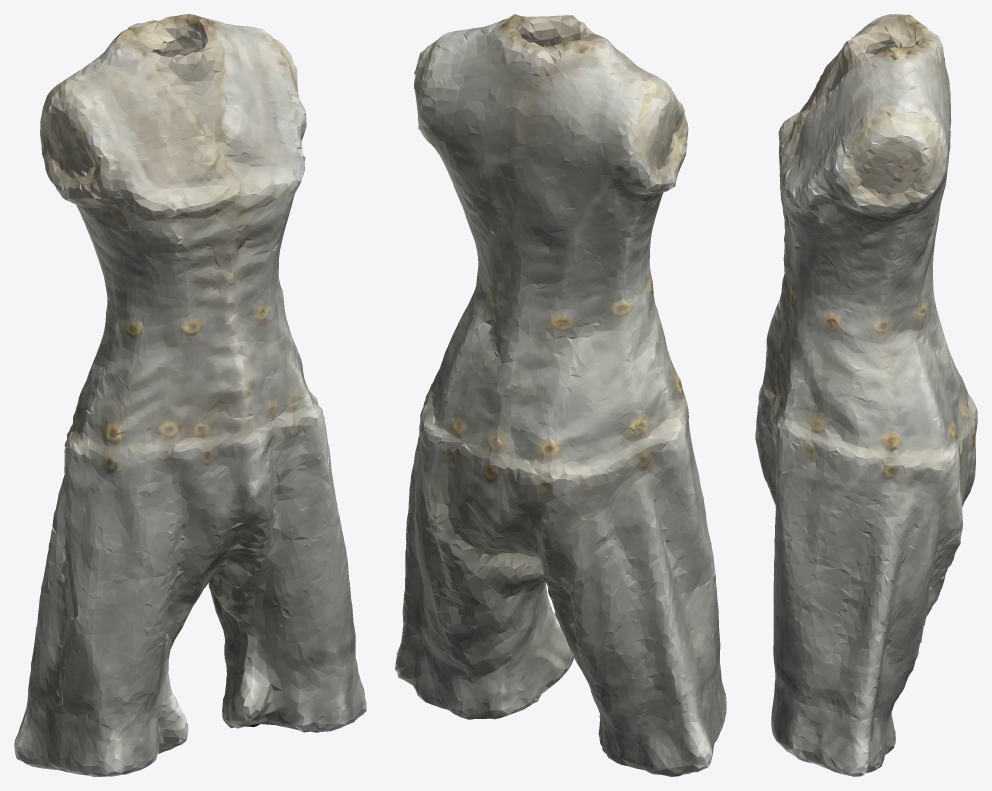
3 renders of one model, left to right at view 1: azimuth 30°, elevation 25°; view 2: azimuth 150°, elevation 25°; view 3: azimuth 270°, elevation 25°, orthographic. The views are drawn at different scales.
Visible parts, largest first — view 1: geometry_0; view 2: geometry_0; view 3: geometry_0.
Boxes of the visible parts, x1,y1,x2,y2 form: geometry_0: [14, 14, 366, 776]; geometry_0: [395, 14, 726, 776]; geometry_0: [755, 14, 977, 776].
Bounding box in the file's own units: 0.4814 × 1 × 0.2968.
Materials: 1 (1 with a texture image).
